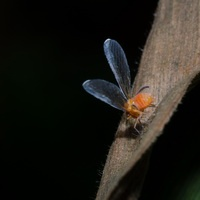insect: (82, 39, 152, 118)
